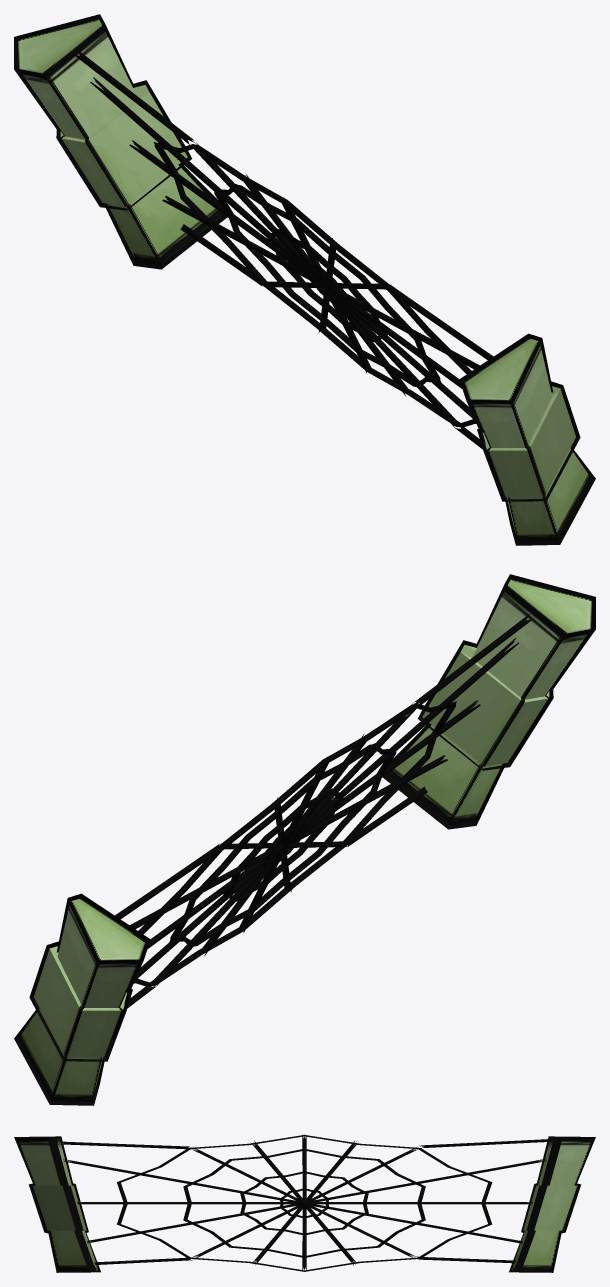
Rendered from bouncy_wall_state4.FBX.
3 views of the same model, one above another, from view 1: azimuth 30°, elevation 25°; view 2: azimuth 150°, elevation 25°; view 3: azimuth 270°, elevation 25° (orthographic). The views are drawn at different scales.
Parts seen in each view (by area): view 1: Torus008, Box104; view 2: Torus008, Box104; view 3: Torus008, Box104.
Part boxes in pixels (x1,y1,x2,y2): Torus008: (17,19,591,541); Box104: (14,14,595,545); Torus008: (18,579,592,1101); Box104: (14,574,595,1105); Torus008: (16,1134,593,1271); Box104: (14,1136,595,1272).
Bounding box in the file's own units: 0.4285 × 0.5545 × 2.17.
Materials: 3 (2 with a texture image).
